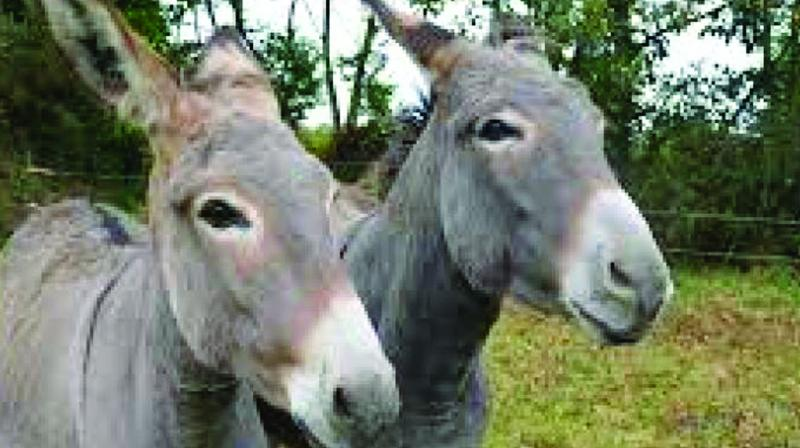donkey: (1, 2, 399, 442), (314, 7, 680, 448)
